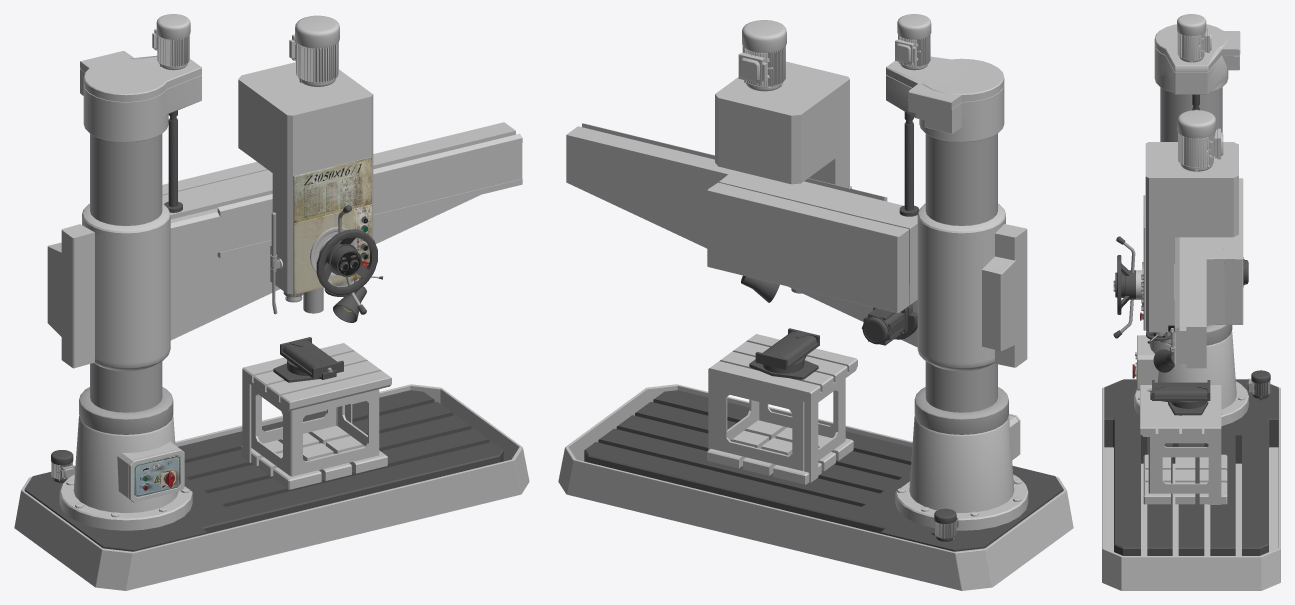
The picture shows the model from 3 angles, left to right: view 1: azimuth 30°, elevation 25°; view 2: azimuth 150°, elevation 25°; view 3: azimuth 270°, elevation 25°; orthographic projection. The views are drawn at different scales.
Parts seen in each view (by area): view 1: Z3050-08, Z3050-01, Z3050-02, Z3050-07, Z3050-09, Z3050-05, Z3050-06, Z3050-17, Z3050-15, Z3050-16, Z3050-04, Z3050-14 (+9 smaller); view 2: Z3050-08, Z3050-01, Z3050-02, Z3050-07, Z3050-09, Z3050-05, Z3050-06, Z3050-04, Z3050-16, Z3050-15, Z3050-14, Z3050-10 (+6 smaller); view 3: Z3050-02, Z3050-01, Z3050-09, Z3050-08, Z3050-06, Z3050-16, Z3050-04, Z3050-10, Z3050-14, Z3050-05, Z3050-15, Z3050-39 (+8 smaller).
Boxes of the visible parts, x1,y1,x2,y2 form: Z3050-08: [162, 122, 522, 340]; Z3050-01: [14, 384, 529, 590]; Z3050-02: [24, 390, 503, 551]; Z3050-07: [47, 203, 170, 371]; Z3050-09: [238, 62, 373, 294]; Z3050-05: [79, 134, 173, 434]; Z3050-06: [80, 51, 201, 142]; Z3050-17: [293, 157, 371, 294]; Z3050-15: [251, 385, 379, 476]; Z3050-16: [242, 343, 391, 462]; Z3050-04: [73, 416, 178, 513]; Z3050-14: [241, 426, 387, 489]; Z3050-08: [566, 123, 917, 347]; Z3050-01: [558, 384, 1073, 590]; Z3050-02: [584, 390, 1063, 551]; Z3050-07: [917, 203, 1027, 371]; Z3050-09: [715, 61, 849, 187]; Z3050-05: [914, 133, 1008, 434]; Z3050-06: [886, 56, 1004, 142]; Z3050-04: [909, 416, 1014, 512]; Z3050-16: [708, 334, 857, 482]; Z3050-15: [716, 378, 845, 470]; Z3050-14: [707, 420, 853, 484]; Z3050-10: [738, 20, 786, 91]; Z3050-02: [1104, 379, 1278, 555]; Z3050-01: [1102, 380, 1280, 590]; Z3050-09: [1145, 142, 1238, 332]; Z3050-08: [1174, 178, 1243, 369]; Z3050-06: [1154, 24, 1240, 94]; Z3050-16: [1140, 385, 1221, 504]; Z3050-04: [1149, 331, 1236, 409]; Z3050-10: [1177, 110, 1223, 171]; Z3050-14: [1143, 454, 1227, 504]; Z3050-05: [1156, 87, 1232, 345]; Z3050-15: [1148, 437, 1208, 493]; Z3050-39: [1147, 380, 1210, 415].
Size of the model in its own units: 2337 by 2480 by 915.
